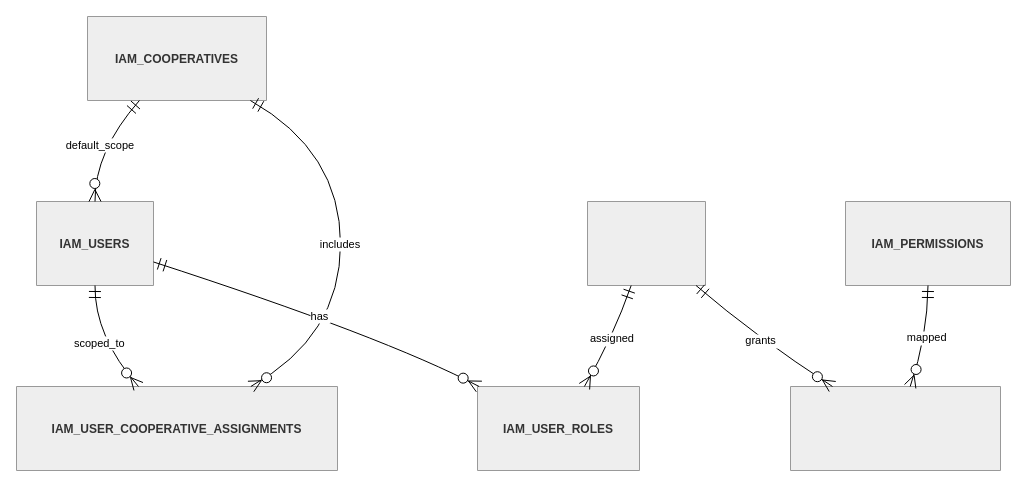
Image size: 1027x487. Some labels were removed from this diagram. The centre of each missing label's shape, as x and y in pixels:
"IAM_ROLE_PERMISSIONS" goes at pixel 895 428.
"IAM_ROLES" goes at pixel 646 243.
